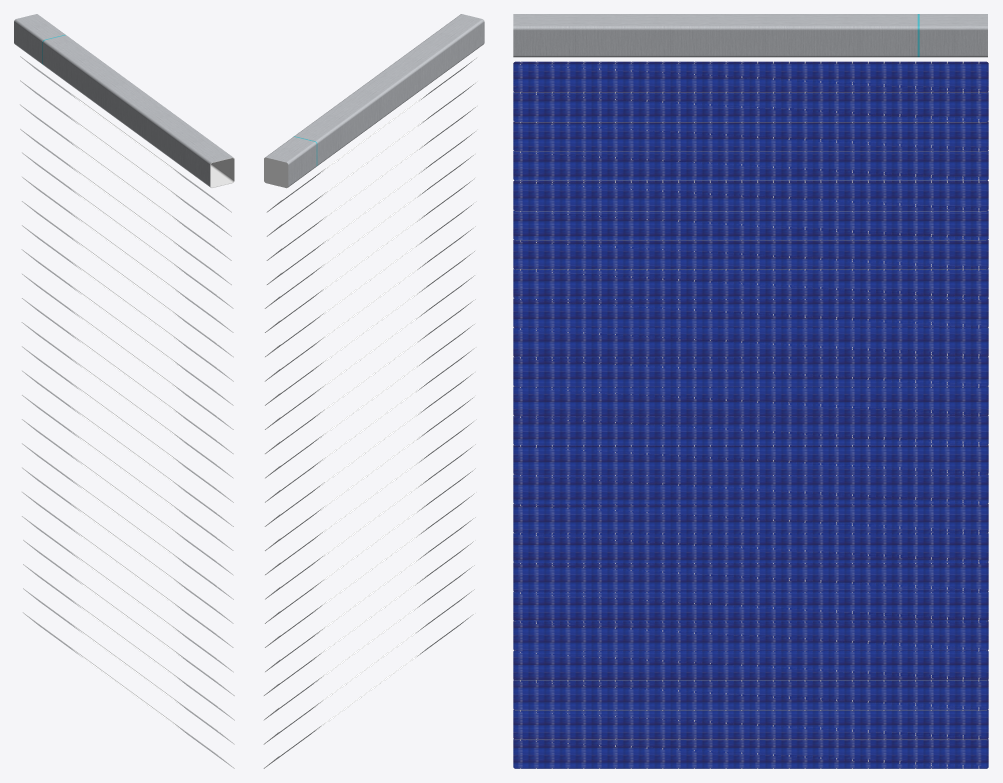
File: asset.gltf
3 views of the same model, side by side, from view 1: azimuth 30°, elevation 25°; view 2: azimuth 150°, elevation 25°; view 3: azimuth 270°, elevation 25° (orthographic). The views are drawn at different scales.
Visible parts, largest first — view 1: Mesh1_Metal_Silver_0, Mesh1_FrontColor_0, Mesh1_Lisanne_Caulk_0; view 2: Mesh1_Metal_Silver_0, Mesh1_FrontColor_0, Mesh1_Lisanne_Caulk_0; view 3: Mesh1_Lisanne_Tool_Bag_01_0, Mesh1_Metal_Silver_0, Mesh1_FrontColor_0.
Part boxes in pixels (x1,y1,x2,y2): Mesh1_Metal_Silver_0: [14, 14, 233, 766]; Mesh1_FrontColor_0: [20, 56, 234, 768]; Mesh1_Lisanne_Caulk_0: [69, 94, 185, 731]; Mesh1_Metal_Silver_0: [264, 14, 484, 768]; Mesh1_FrontColor_0: [263, 56, 478, 768]; Mesh1_Lisanne_Caulk_0: [313, 94, 427, 732]; Mesh1_Lisanne_Tool_Bag_01_0: [513, 61, 988, 768]; Mesh1_Metal_Silver_0: [513, 14, 987, 57]; Mesh1_FrontColor_0: [513, 92, 988, 768].
Size of the model in its own units: 56.9 by 1314 by 764.
5 materials, 2 textured.
